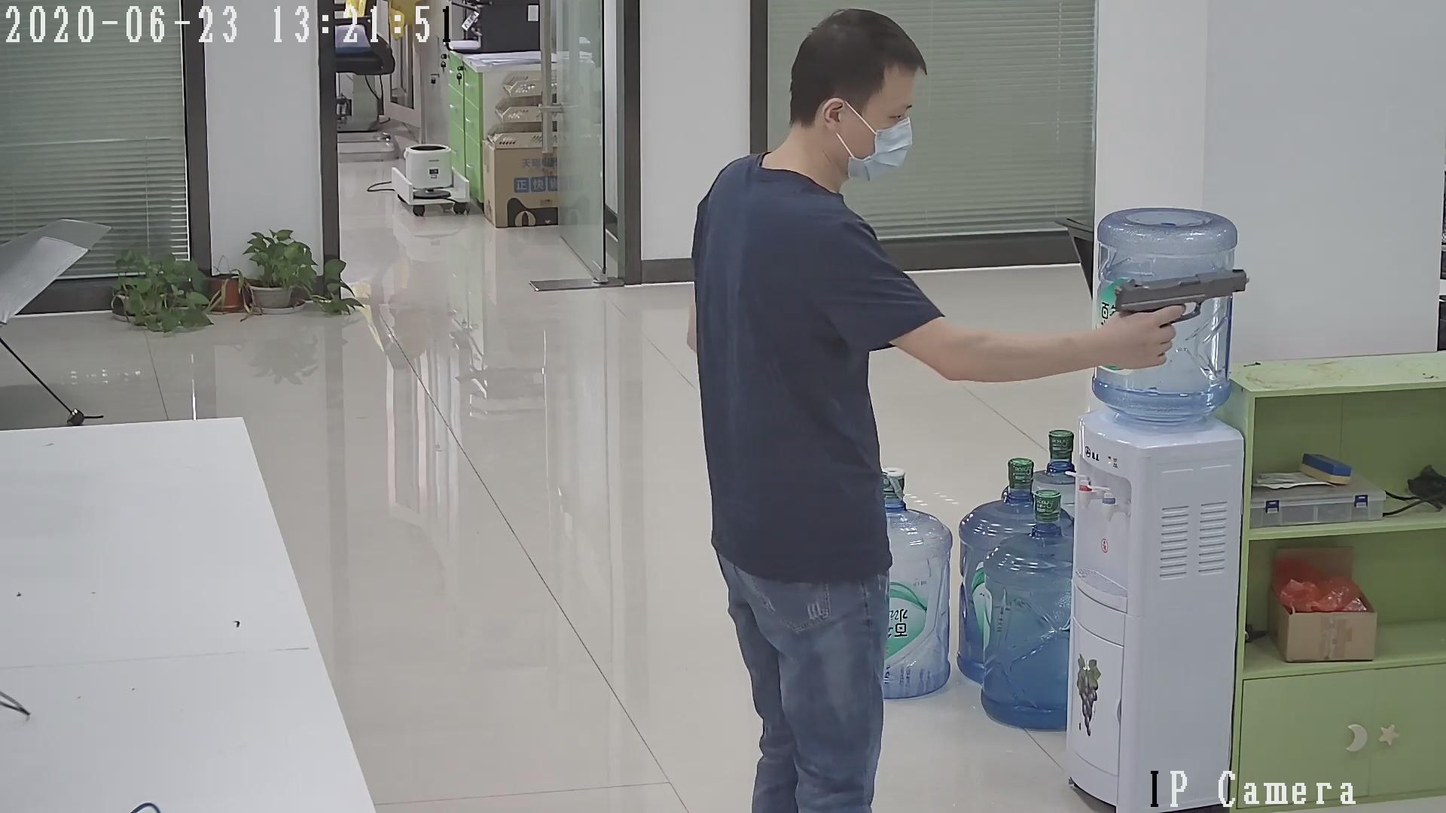gun: (1108, 261, 1249, 370)
